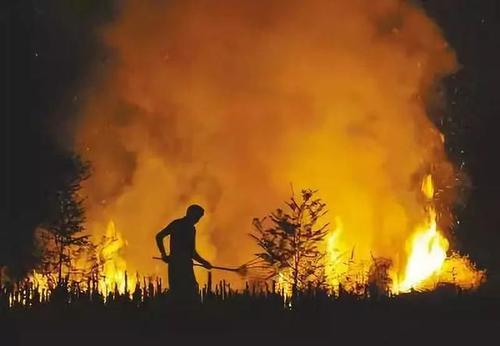fire: (385, 205, 448, 296), (91, 227, 137, 296), (30, 271, 49, 294), (421, 175, 434, 195)
